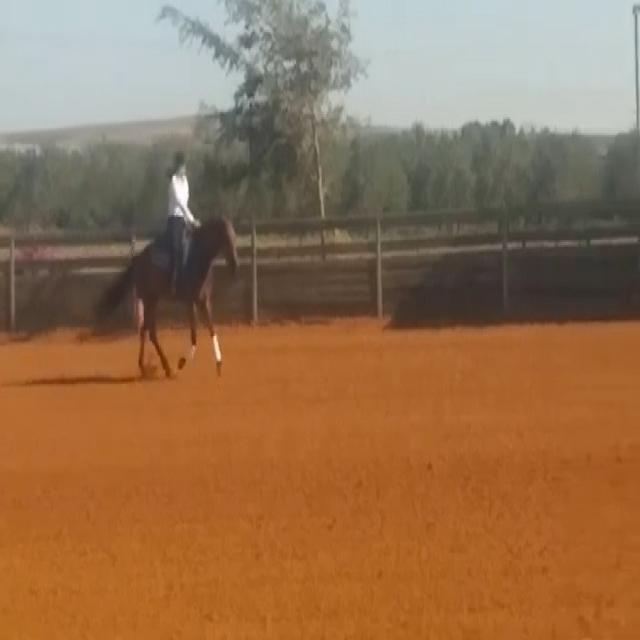horse: (90, 212, 241, 380)
